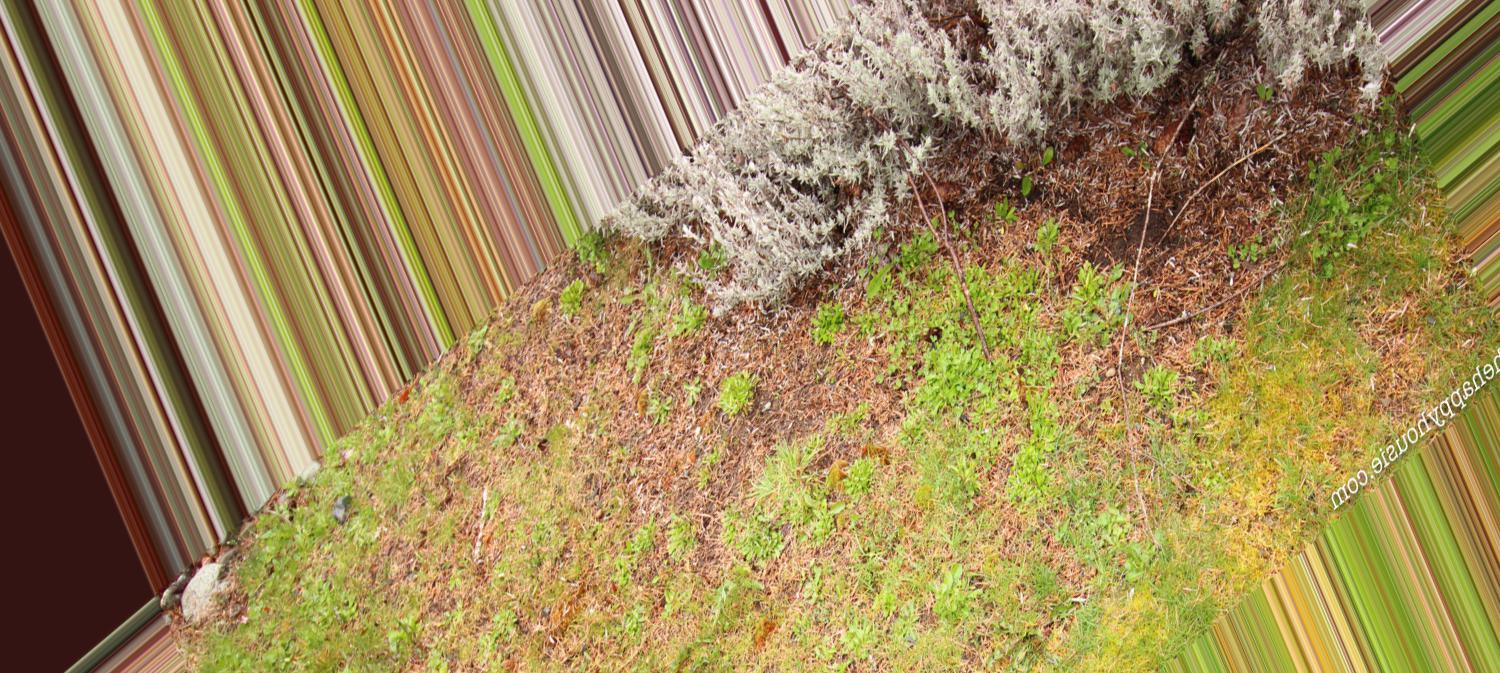patch: (567, 325, 828, 473), (1126, 173, 1275, 295)
